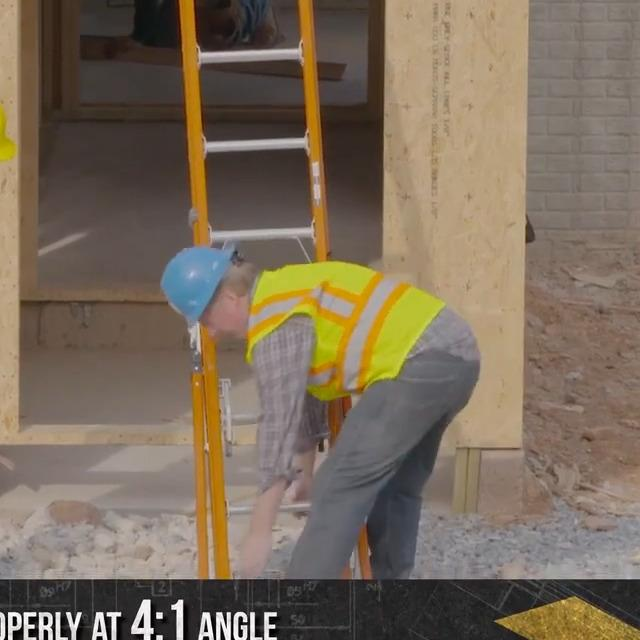Hardhat: (157, 240, 239, 333)
Ladder: (177, 0, 373, 585)
NO-Mask: (220, 300, 246, 339)
Person: (162, 237, 480, 582), (131, 0, 278, 53)
Safety Vest: (247, 261, 444, 392)
